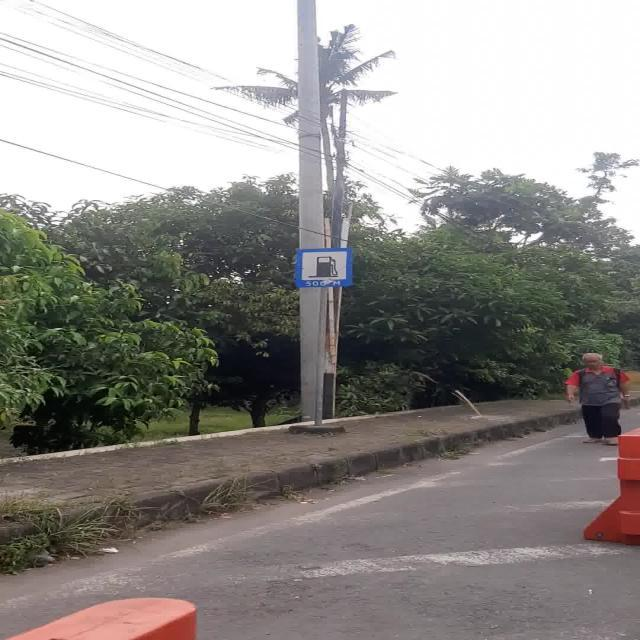Pom Bensin: (296, 248, 352, 287)
